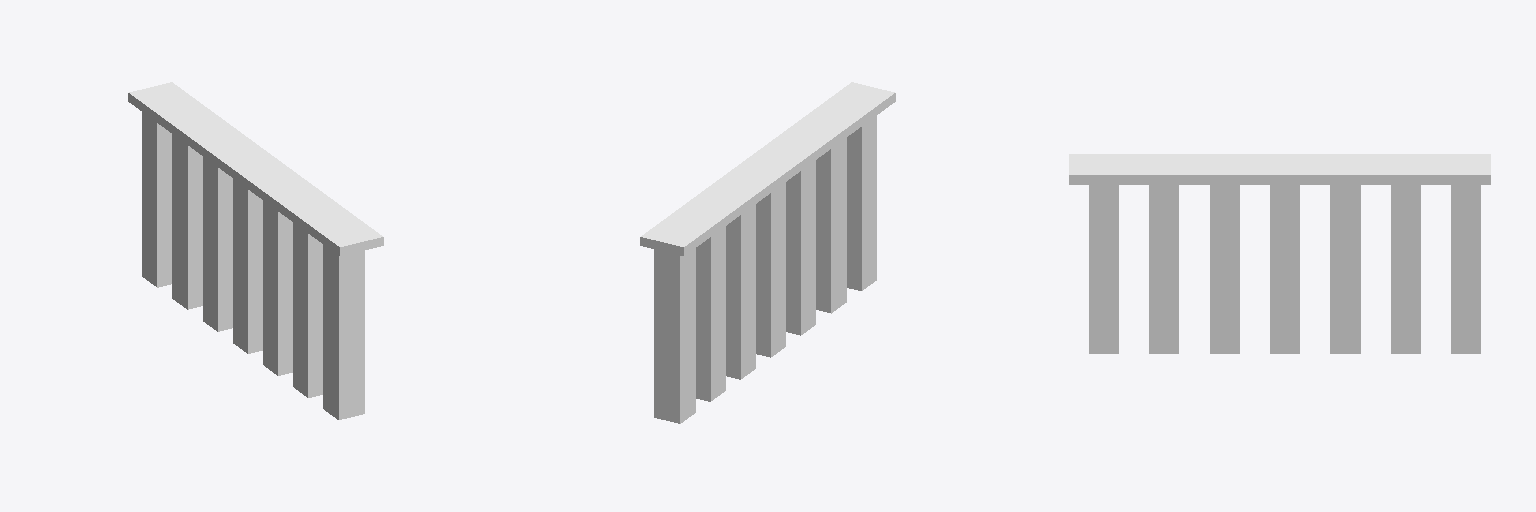
The model's file is Basic.obj.
3 renders of one model, left to right at view 1: azimuth 30°, elevation 25°; view 2: azimuth 150°, elevation 25°; view 3: azimuth 270°, elevation 25°, orthographic.
Visible parts, largest first — view 1: object 1; view 2: object 1; view 3: object 1.
Boxes of the visible parts, <box> form: object 1: <box>128,82,383,419</box>; object 1: <box>640,82,895,423</box>; object 1: <box>1069,154,1490,353</box>.
Size of the model in its own units: 0.5 by 2 by 4.2.